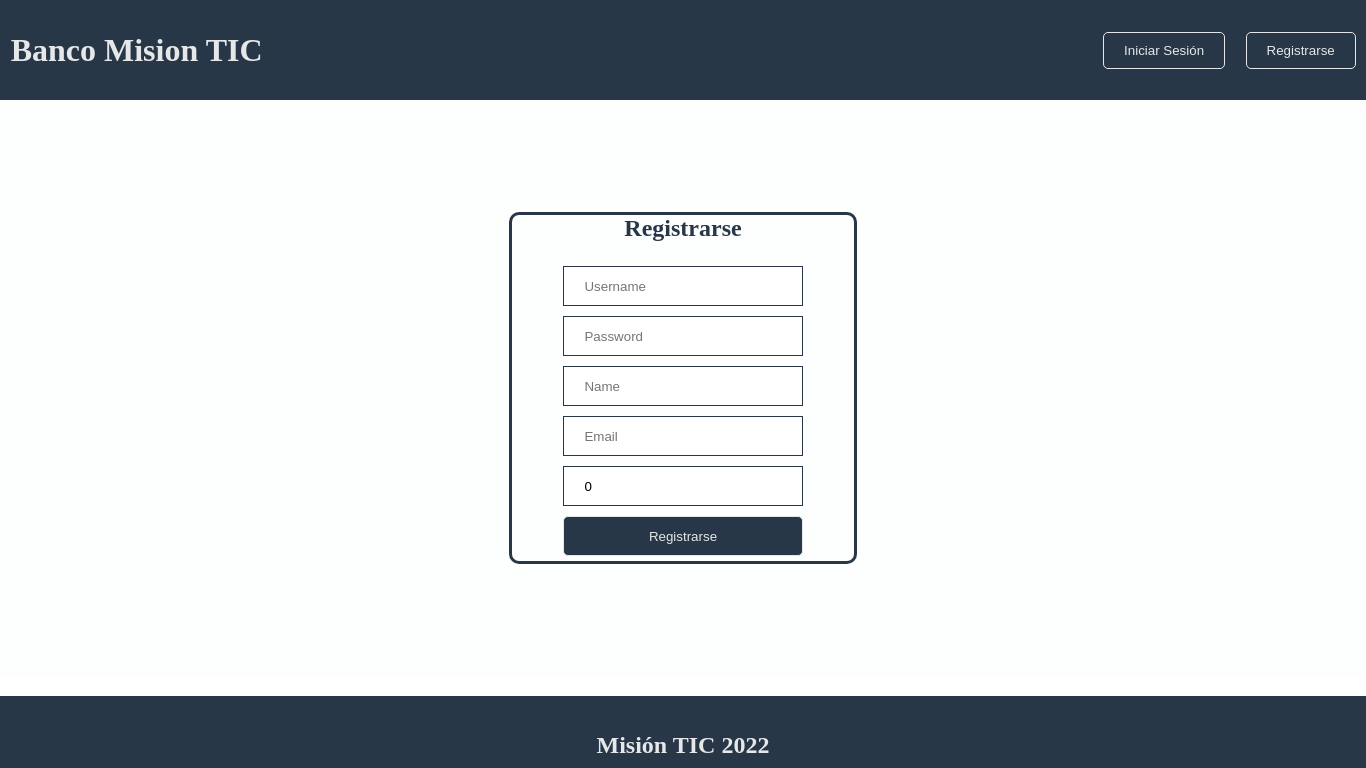
Test case: App.vue › El botón logIn no funciona correctamente
This screenshot has width=1366, height=768.
Click the button "Iniciar Sesión": (1164, 50) [1103,32,1225,68]
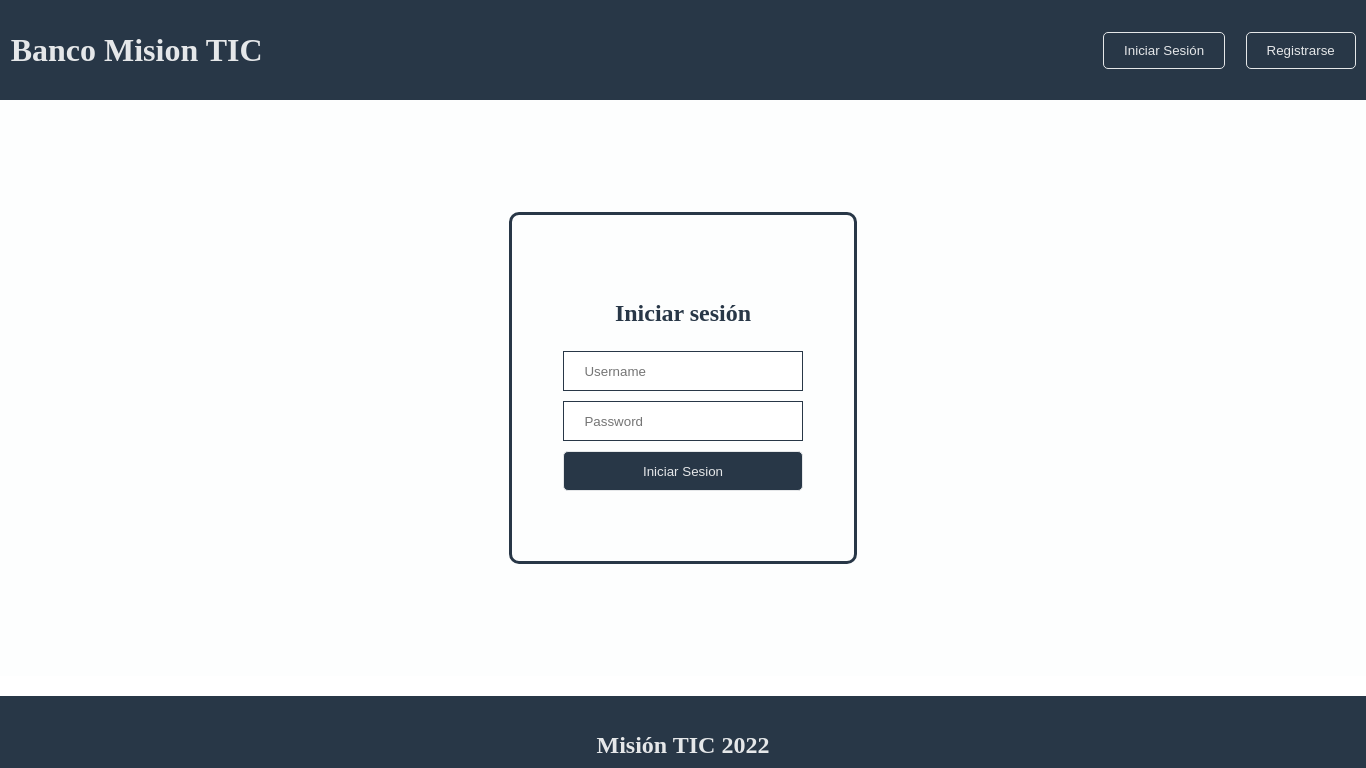
Result: the element showing "Iniciar sesión Iniciar Sesion" is shown at [509,212,857,564]
